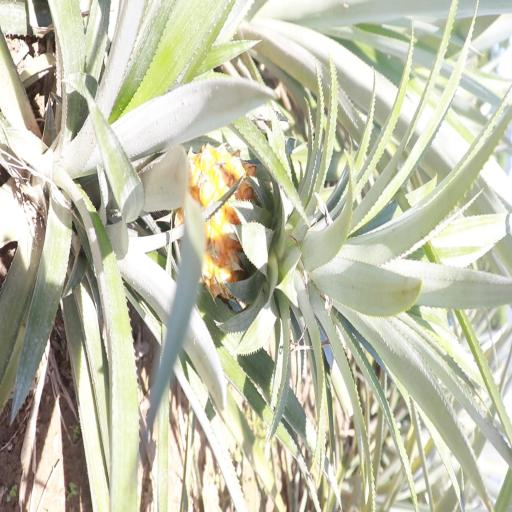Pineapple - v8 v1: (184, 132, 424, 312)
